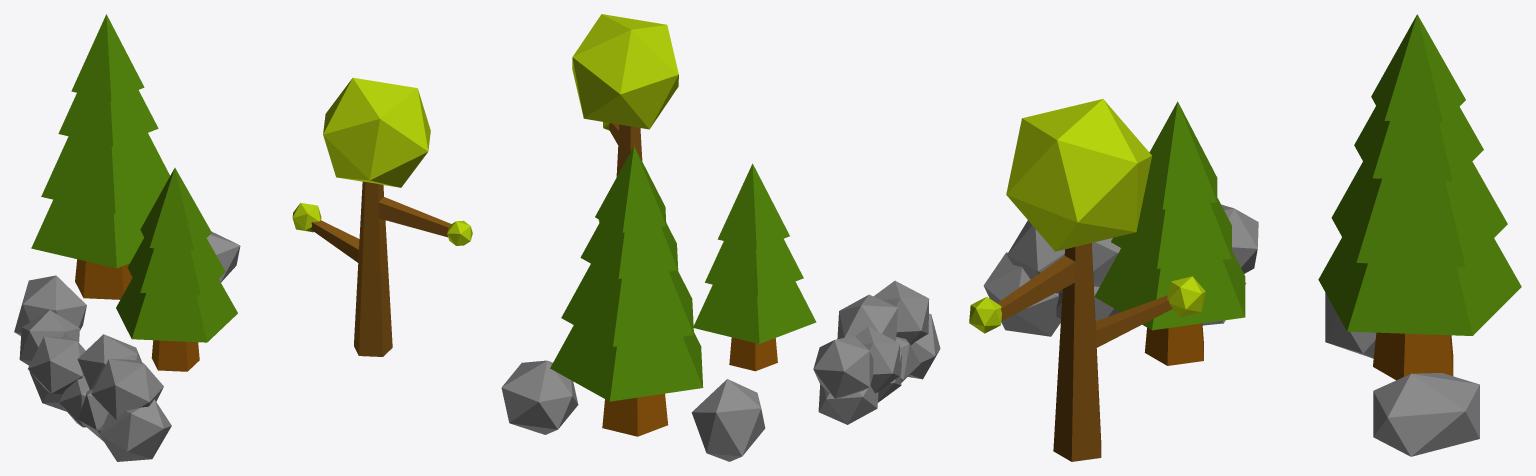
The model's file is LowPolyEnvironment.fbx.
3 views of the same model, side by side, from view 1: azimuth 30°, elevation 25°; view 2: azimuth 150°, elevation 25°; view 3: azimuth 270°, elevation 25° (orthographic). The views are drawn at different scales.
Parts seen in each view (by area): view 1: PineTreeLarge, Tree, PineTreeSmall, RockWall, Rock2, Rock1; view 2: PineTreeLarge, PineTreeSmall, RockWall, Tree, Rock1, Rock2; view 3: PineTreeLarge, Tree, PineTreeSmall, Rock1, RockWall, Rock2.
Part boxes in pixels (x1,y1,x2,y2): PineTreeLarge: (31, 14, 169, 299); Tree: (292, 77, 472, 356); PineTreeSmall: (116, 168, 237, 371); RockWall: (19, 310, 171, 461); Rock2: (14, 275, 86, 335); Rock1: (206, 231, 240, 282); PineTreeLarge: (550, 146, 703, 436); PineTreeSmall: (693, 163, 816, 371); RockWall: (813, 280, 940, 424); Tree: (572, 14, 678, 222); Rock1: (501, 360, 578, 434); Rock2: (691, 379, 765, 461); PineTreeLarge: (1318, 14, 1521, 380); Tree: (969, 99, 1205, 461); PineTreeSmall: (1094, 101, 1245, 365); Rock1: (1373, 373, 1479, 456); RockWall: (983, 204, 1258, 336); Rock2: (1325, 293, 1376, 358).
Size of the model in its own units: 12.26 by 9.8 by 12.43.
